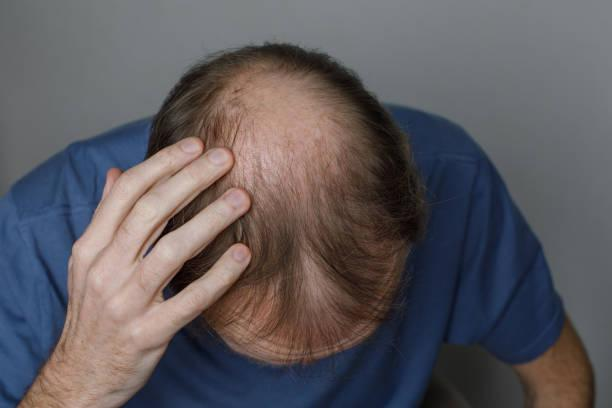dry hair: (358, 197, 409, 232), (391, 151, 410, 182)
low hair density: (224, 76, 334, 146), (306, 144, 379, 188), (182, 94, 251, 136), (294, 185, 348, 234), (295, 244, 330, 314), (242, 225, 274, 241)
